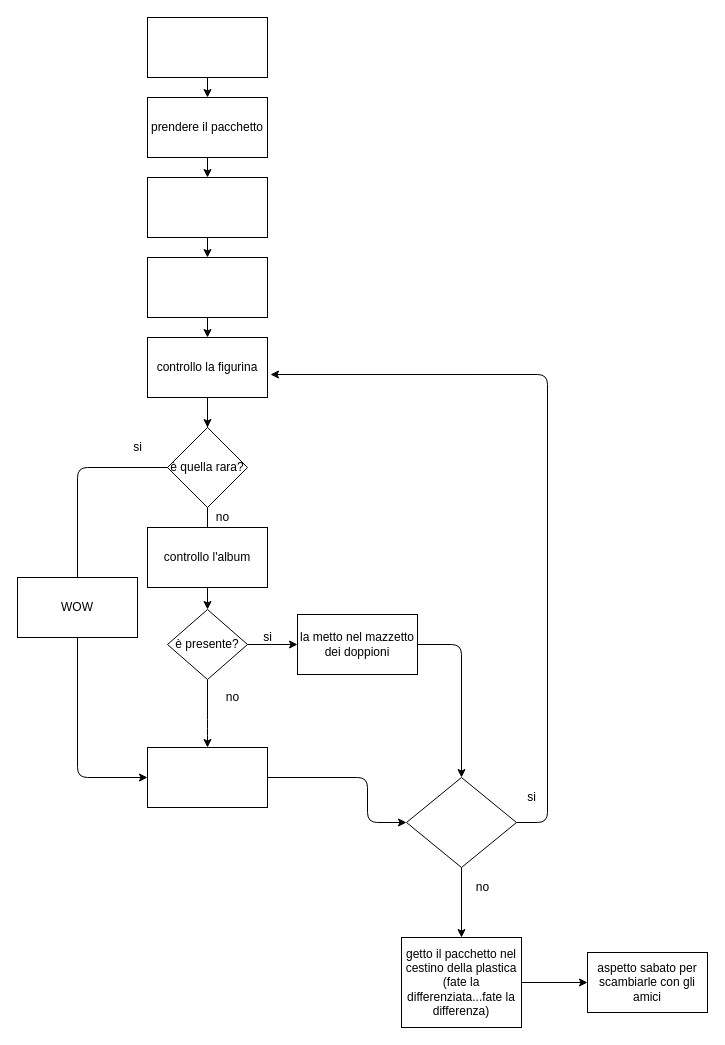
Image size: 725x1045. Some labels were removed from this diagram. The centre of each missing label's shape, as x and y in pixels:
"aggiungo la figurina all'album" goes at pixel 207 777.
"aprire il pacchetto" goes at pixel 207 207.
"Aprire un pacchetto di figurine" goes at pixel 207 47.
"ci sono ancora figurine?" goes at pixel 461 822.
"sfilo le figurine dal pacchetto" goes at pixel 207 287.
